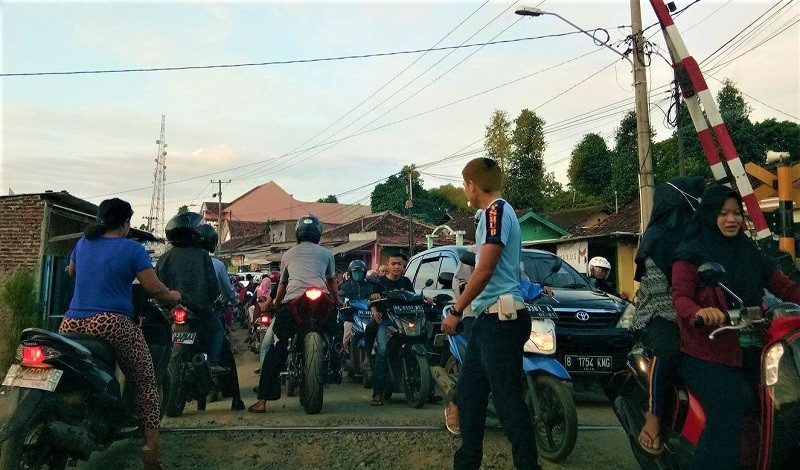plate: (563, 353, 618, 373)
